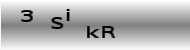3: (19, 9, 34, 22)
R: (101, 25, 116, 39)
S: (49, 16, 64, 30)
i: (65, 8, 71, 22)
k: (85, 24, 100, 39)
